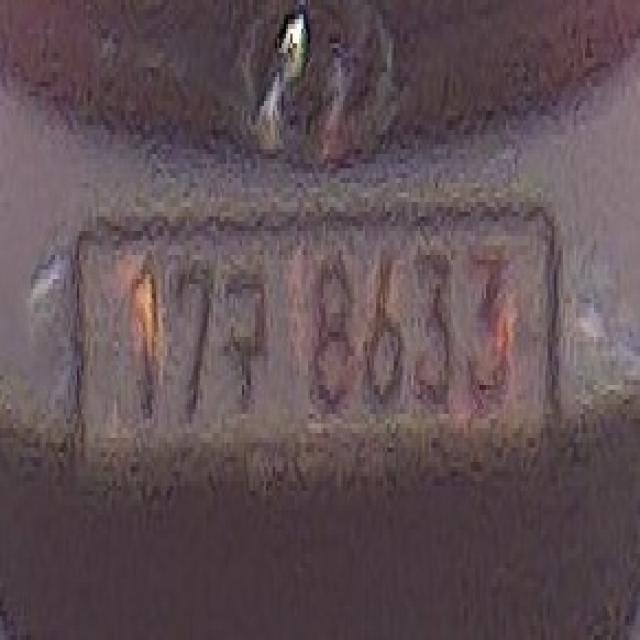1: (119, 245, 167, 438)
3: (457, 236, 517, 418), (409, 241, 455, 418)
6: (361, 251, 407, 424)
7: (169, 250, 218, 433)
8: (308, 250, 358, 428)
gu: (220, 264, 273, 424)
license_plate: (68, 192, 565, 506)
